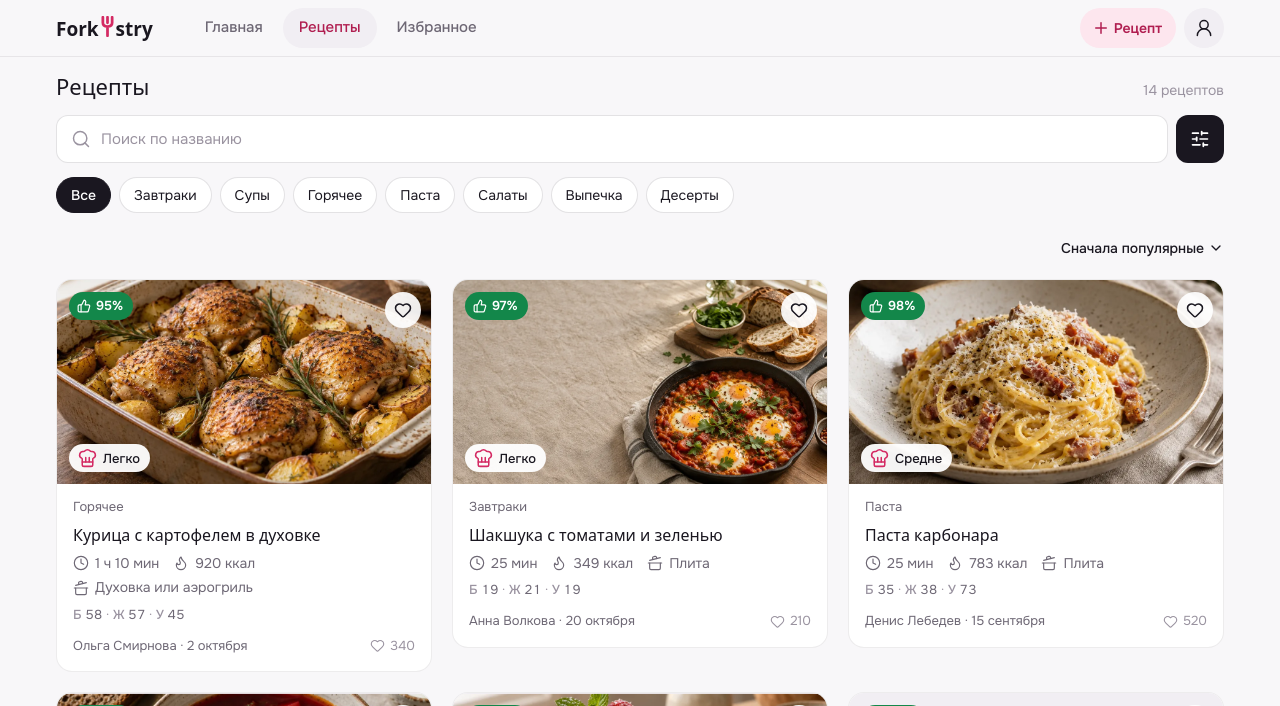
Test: каталог: загрузка, успех, пусто, ошибка › категория-чип отправляет фильтр по категории
This screenshot has width=1280, height=706.
Check: the text "14 рецептов" is shown, box [1143,80,1224,100]
Click the button "Супы" at (252, 194), box [220,176,285,212]
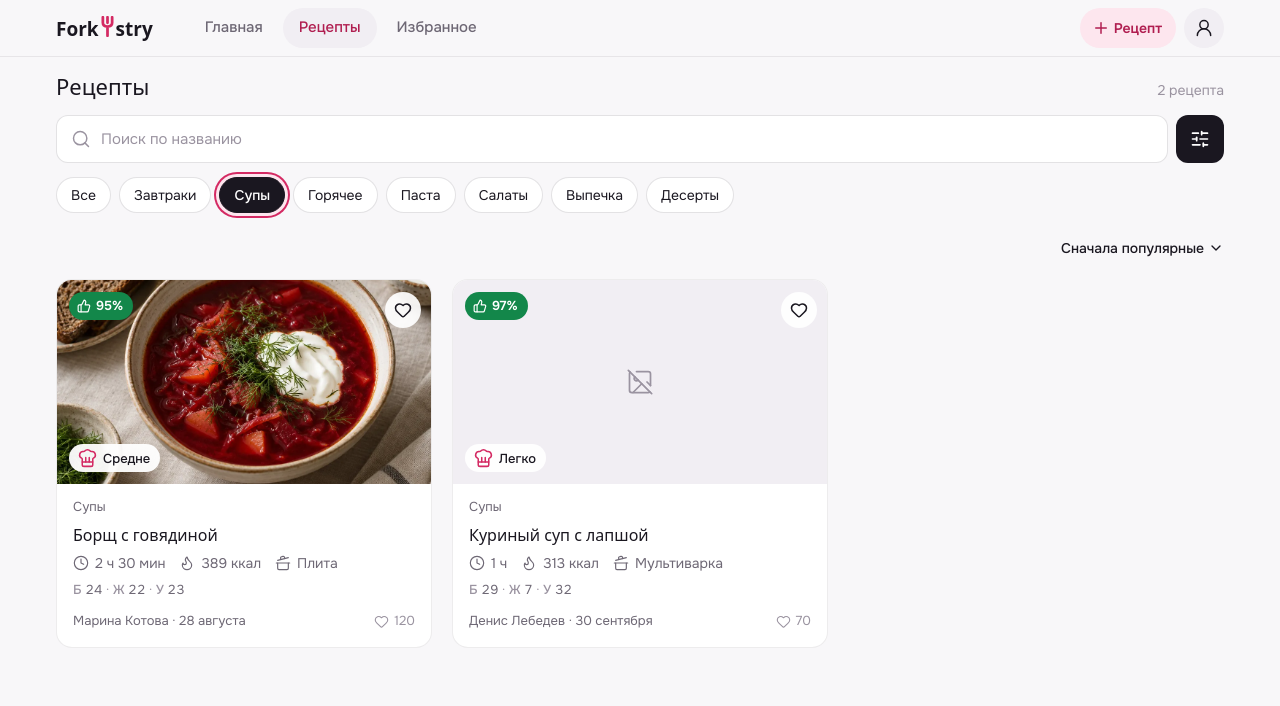
Check: the text "2 рецепта" is shown, box [1157,80,1224,100]
